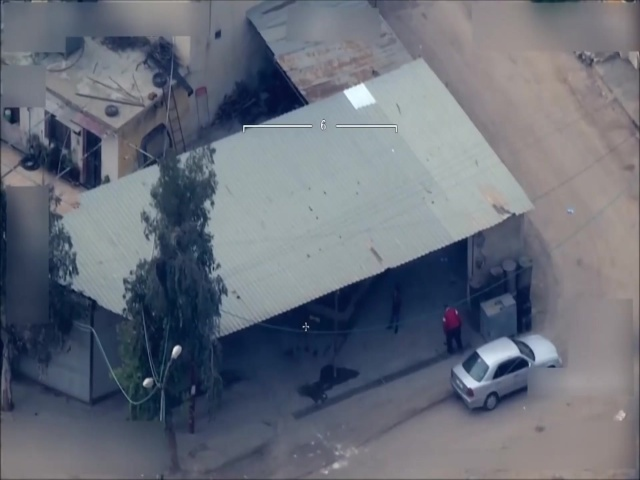person: (437, 300, 467, 359), (382, 282, 404, 332)
vehicle: (451, 334, 564, 411)
